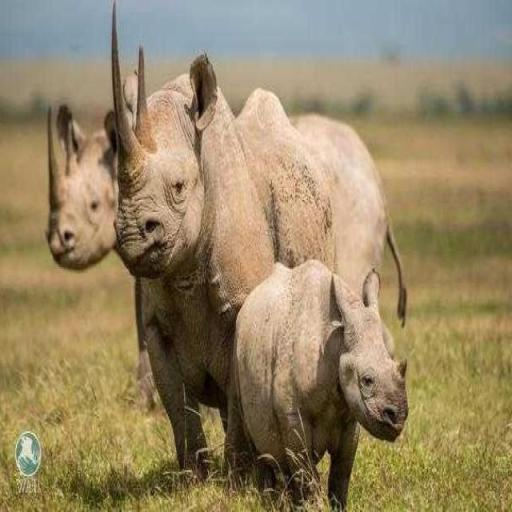Rhino: (224, 256, 409, 510)
